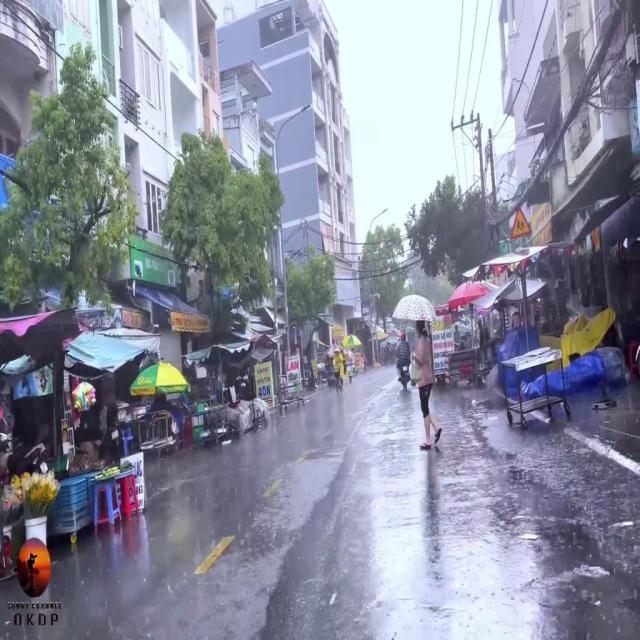chu_y_tre_em: (510, 205, 532, 239)
